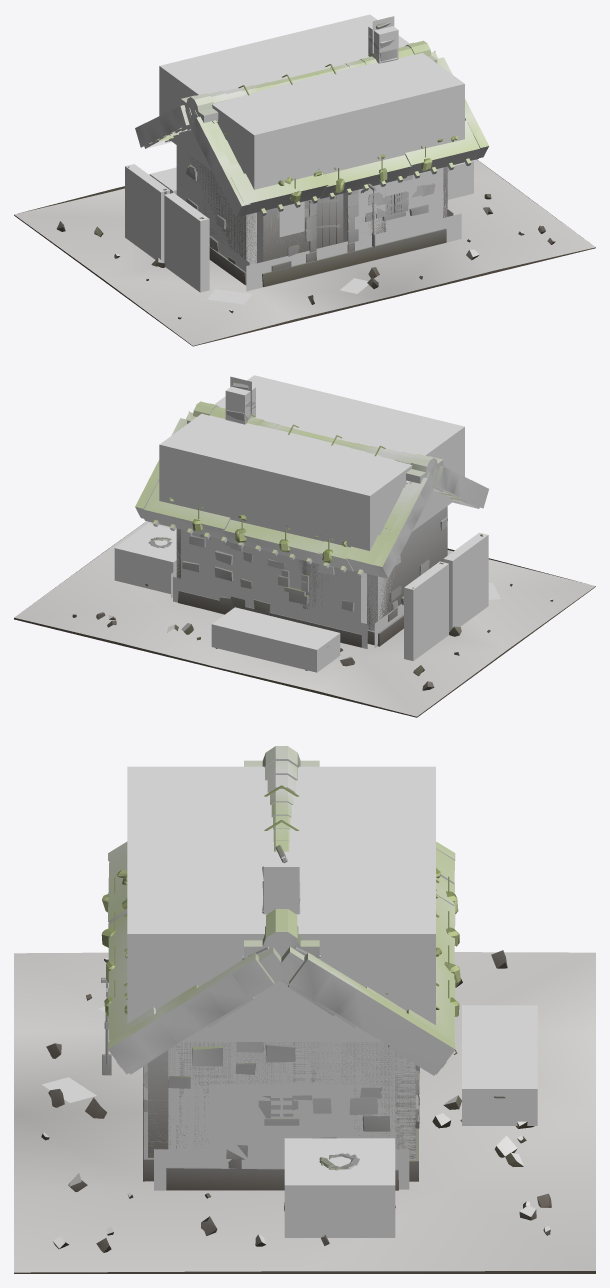
File: bld_cottage_ness_shared.glb
3 views of the same model, one above another, from view 1: azimuth 30°, elevation 25°; view 2: azimuth 150°, elevation 25°; view 3: azimuth 270°, elevation 25° (orthographic). The views are drawn at different scales.
Parts seen in each view (by area): view 1: col_roof, ground_mud, roof_turf_thatch, decals_ness, wall_S_stones, col_wall_W_0, col_net_0, col_net_1, col_wall_S_2, wall_W, wall_S, door_main_leaf (+6 smaller); view 2: col_roof, ground_mud, roof_turf_thatch, col_wall_N_0, col_boat, wall_N_stones, col_net_1, col_peat, col_net_0, decals_ness, wall_W, wall_W_stones (+5 smaller); view 3: ground_mud, col_roof, roof_turf_thatch, col_wall_E_0, decals_ness, col_peat, col_boat, wall_E_stones, ground_clutter, wall_E, col_chimney, wall_S (+4 smaller).
Boxes of the visible parts, x1,y1,x2,y2 form: col_roof: [159, 14, 464, 189]; ground_mud: [14, 159, 595, 346]; roof_turf_thatch: [135, 40, 488, 217]; decals_ness: [207, 16, 461, 304]; wall_S_stones: [262, 175, 446, 286]; col_wall_W_0: [176, 145, 256, 264]; col_net_0: [164, 193, 209, 292]; col_net_1: [125, 164, 169, 262]; col_wall_S_2: [343, 167, 443, 242]; wall_W: [189, 155, 256, 262]; wall_S: [263, 187, 386, 261]; door_main_leaf: [315, 193, 343, 248]; col_roof: [159, 375, 464, 550]; ground_mud: [14, 521, 595, 717]; roof_turf_thatch: [135, 401, 488, 578]; col_wall_N_0: [181, 529, 366, 623]; col_boat: [211, 607, 340, 672]; wall_N_stones: [178, 534, 368, 647]; col_net_1: [404, 561, 448, 660]; col_peat: [114, 523, 176, 593]; col_net_0: [443, 532, 488, 631]; decals_ness: [171, 376, 500, 648]; wall_W: [367, 506, 447, 630]; wall_W_stones: [367, 517, 447, 646]; ground_mud: [14, 952, 595, 1273]; col_roof: [127, 766, 435, 1041]; roof_turf_thatch: [108, 746, 455, 1075]; col_wall_E_0: [168, 1042, 395, 1149]; decals_ness: [41, 1006, 409, 1190]; col_peat: [284, 1138, 395, 1237]; col_boat: [462, 1005, 537, 1125]; wall_E_stones: [166, 1042, 398, 1190]; ground_clutter: [41, 950, 551, 1252]; wall_E: [168, 1042, 395, 1148]; col_chimney: [263, 851, 299, 914]; wall_S: [148, 1050, 168, 1157].
Bounding box in the file's own units: 13 × 6.26 × 10.
